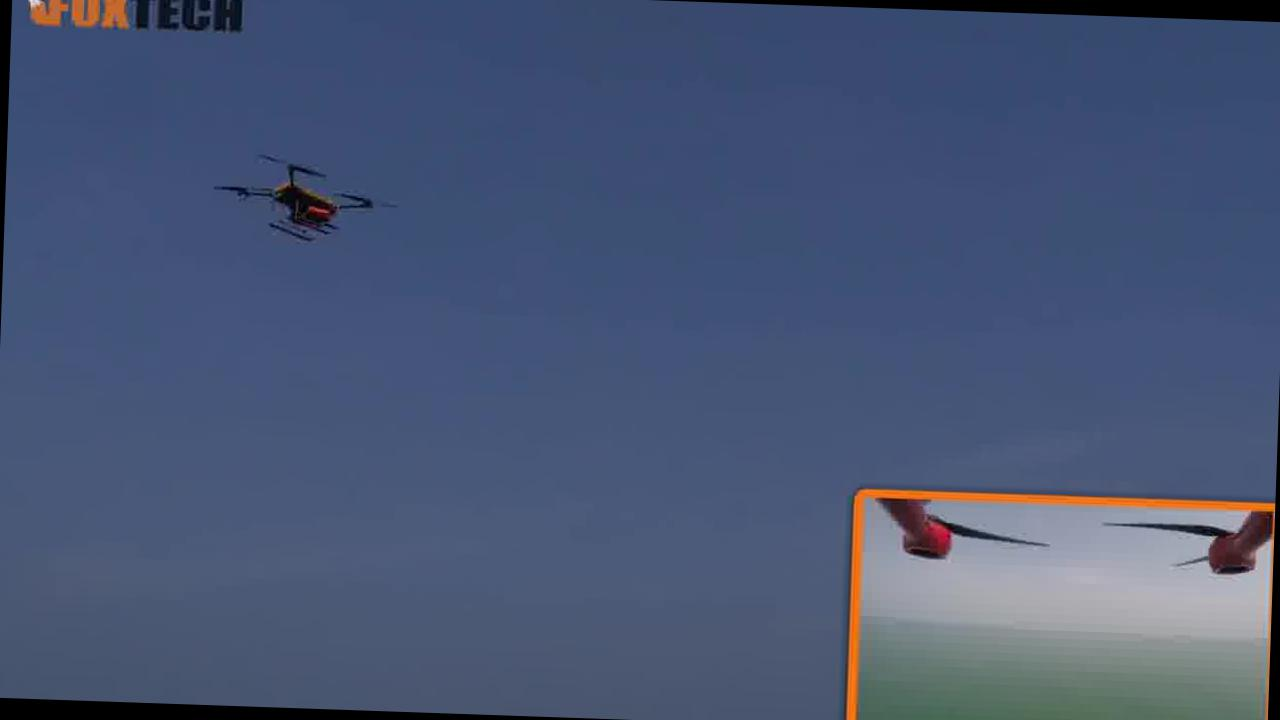drone: (215, 142, 404, 262)
